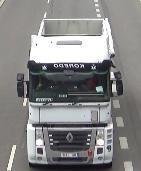Truck: (28, 17, 113, 167)
